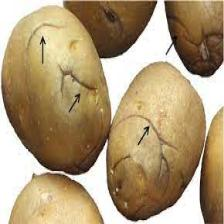Damaged potato: (1, 1, 114, 177), (108, 59, 205, 217), (62, 0, 165, 54), (164, 1, 224, 81), (165, 1, 224, 78)
